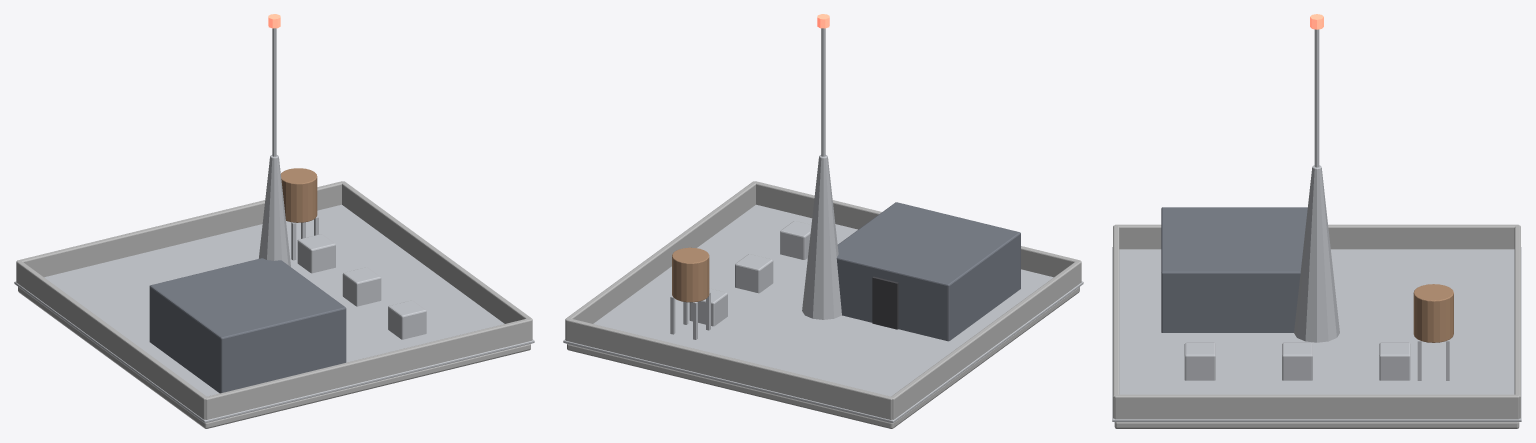
File: roof_5x5_spire_office.glb
3 renders of one model, left to right at view 1: azimuth 30°, elevation 25°; view 2: azimuth 150°, elevation 25°; view 3: azimuth 270°, elevation 25°, orthographic. The views are drawn at different scales.
Visible parts, largest first — view 1: int_slab_edge, ext_parapet, ext_penthouse, ext_ac, int_slab, ext_spire, ext_tank, ext_mast; view 2: int_slab_edge, ext_parapet, ext_penthouse, ext_spire, int_slab, ext_ac, ext_tank, ext_penthouse_door, ext_tank_legs, ext_mast; view 3: int_slab_edge, ext_parapet, ext_penthouse, ext_spire, ext_ac, int_slab, ext_tank, ext_mast.
Part boxes in pixels (x1,y1,x2,y2): int_slab_edge: [14, 204, 534, 422]; ext_parapet: [16, 181, 532, 419]; ext_penthouse: [149, 258, 346, 393]; ext_ac: [297, 234, 426, 339]; int_slab: [18, 287, 530, 428]; ext_spire: [258, 155, 290, 266]; ext_tank: [281, 168, 317, 222]; ext_mast: [272, 28, 276, 156]; int_slab_edge: [563, 204, 1083, 422]; ext_parapet: [565, 181, 1081, 419]; ext_penthouse: [836, 202, 1020, 341]; ext_spire: [802, 155, 841, 319]; int_slab: [567, 287, 1079, 428]; ext_ac: [689, 221, 811, 326]; ext_tank: [672, 247, 709, 302]; ext_penthouse_door: [872, 276, 898, 329]; ext_tank_legs: [670, 292, 710, 339]; ext_mast: [821, 28, 825, 156]; int_slab_edge: [1112, 247, 1521, 421]; ext_parapet: [1113, 224, 1520, 419]; ext_penthouse: [1161, 207, 1307, 332]; ext_spire: [1294, 165, 1339, 342]; ext_ac: [1184, 342, 1410, 380]; int_slab: [1114, 422, 1519, 428]; ext_tank: [1413, 284, 1453, 342]; ext_mast: [1314, 29, 1319, 167].
Bounding box in the file's own units: 5.26 × 4.64 × 5.26.
